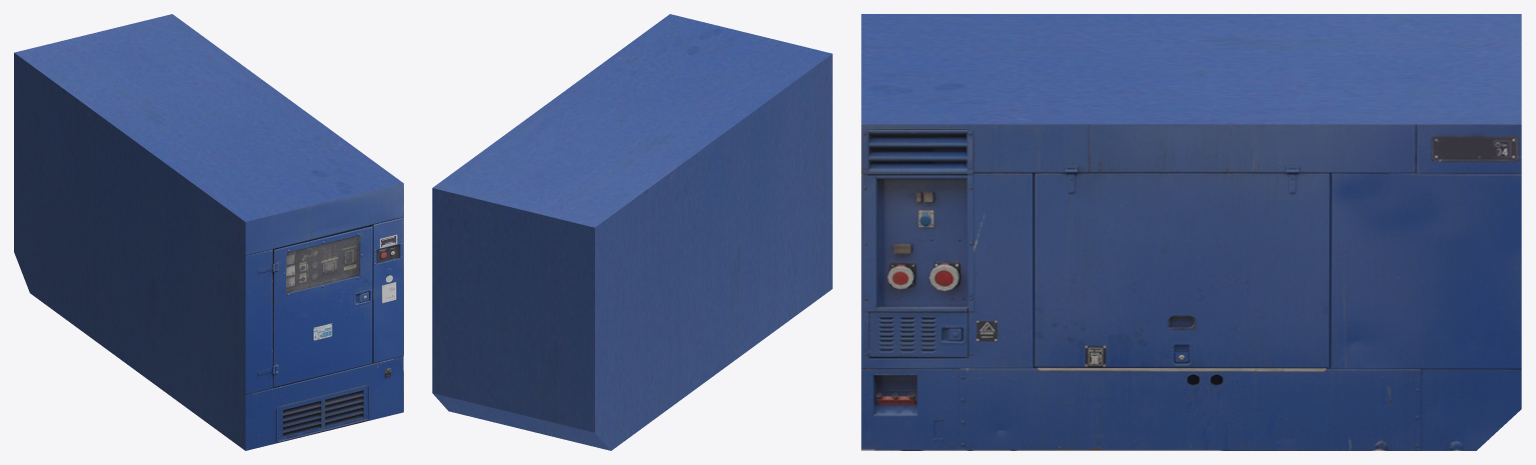
File: generator.fbx
3 views of the same model, side by side, from view 1: azimuth 30°, elevation 25°; view 2: azimuth 150°, elevation 25°; view 3: azimuth 270°, elevation 25° (orthographic). The views are drawn at different scales.
Parts seen in each view (by area): view 1: gerador2; view 2: gerador2; view 3: gerador2.
Part boxes in pixels (x1,y1,x2,y2): gerador2: (14, 14, 403, 450); gerador2: (432, 14, 832, 450); gerador2: (861, 14, 1521, 450).
Size of the model in its own units: 1.46 by 2.02 by 3.69.
Materials: 1 (1 with a texture image).
